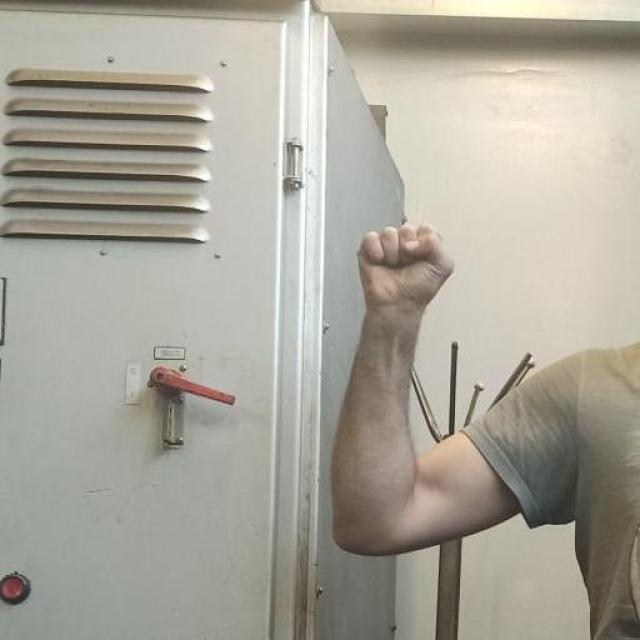hand: (355, 220, 454, 318)
